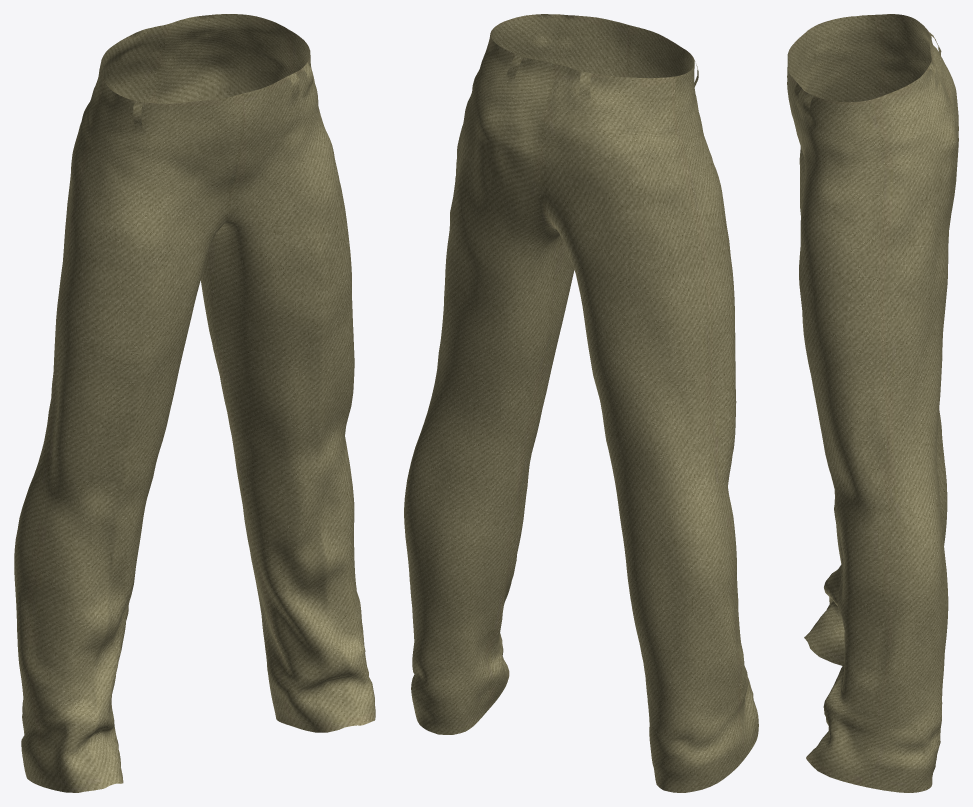
Rendered from pants-khaki-drawstring.glb.
3 views of the same model, side by side, from view 1: azimuth 30°, elevation 25°; view 2: azimuth 150°, elevation 25°; view 3: azimuth 270°, elevation 25° (orthographic). The views are drawn at different scales.
Parts seen in each view (by area): view 1: trousers-charcoal; view 2: trousers-charcoal; view 3: trousers-charcoal.
Boxes of the visible parts, x1,y1,x2,y2 form: trousers-charcoal: (14, 14, 375, 792); trousers-charcoal: (404, 14, 758, 792); trousers-charcoal: (787, 14, 958, 792).
Size of the model in its own units: 0.5403 by 1.12 by 0.2559.
Materials: 1 (1 with a texture image).
